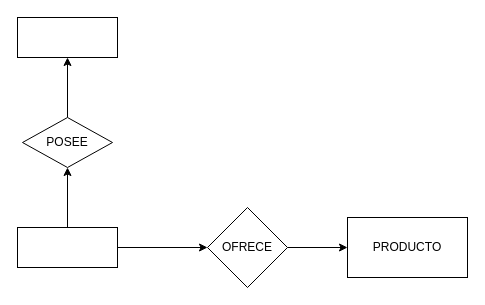
Some shapes in this 485 by 305 pixel diagram are drawn without their labels. The centre of each missing label's shape, as x and y in pixels:
EMPRESA PROVEEDORA: pixel 67 37
SUCURSAL: pixel 67 247
